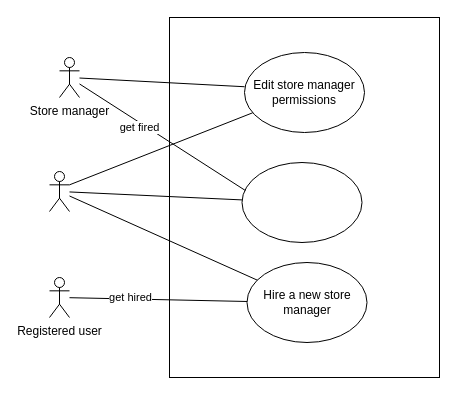
Some shapes in this 457 by 395 pixel diagram are drawn without their labels. Here are the shapes that lost their labels. From the top down, the centre of each, then its label:
At [59,191]: "Store owner".
At [301,202]: "Remove a store manager".
